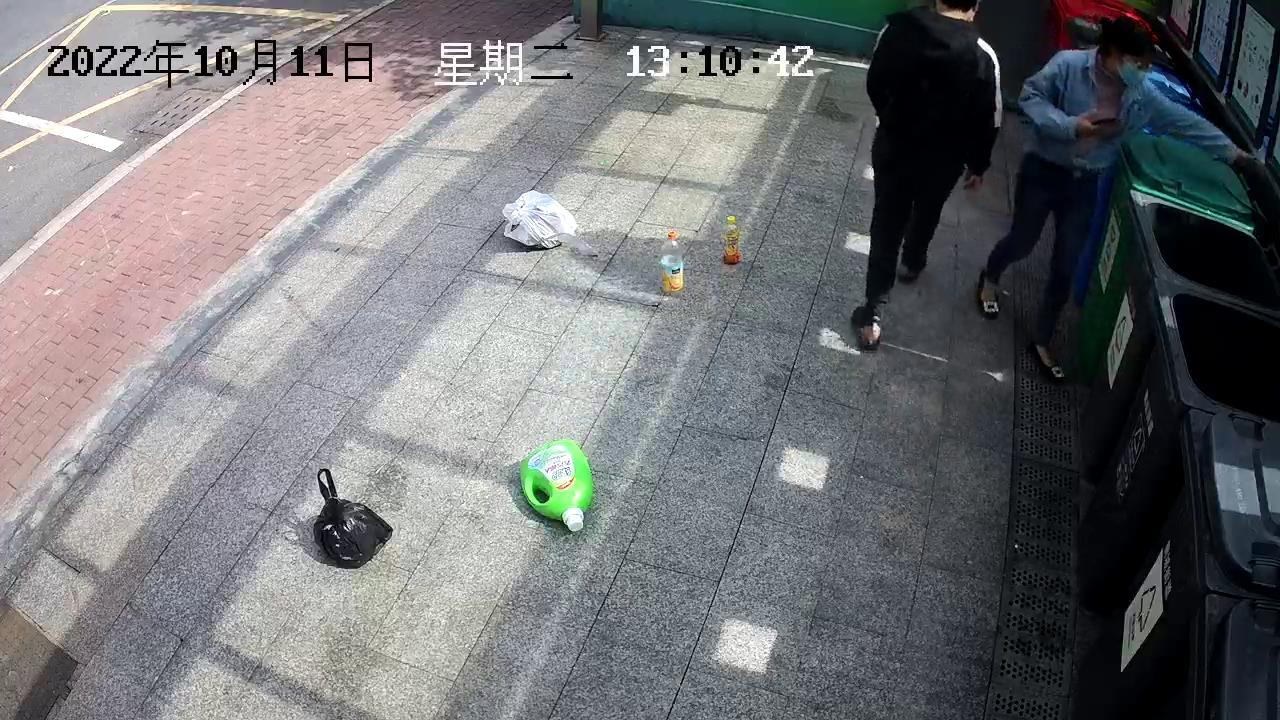garbage-bag: (311, 465, 395, 571), (500, 185, 580, 252)
person: (850, 1, 1006, 355)
suliaozhipin: (514, 436, 596, 533), (656, 227, 686, 297), (722, 212, 742, 266)
worker: (974, 14, 1259, 387)
